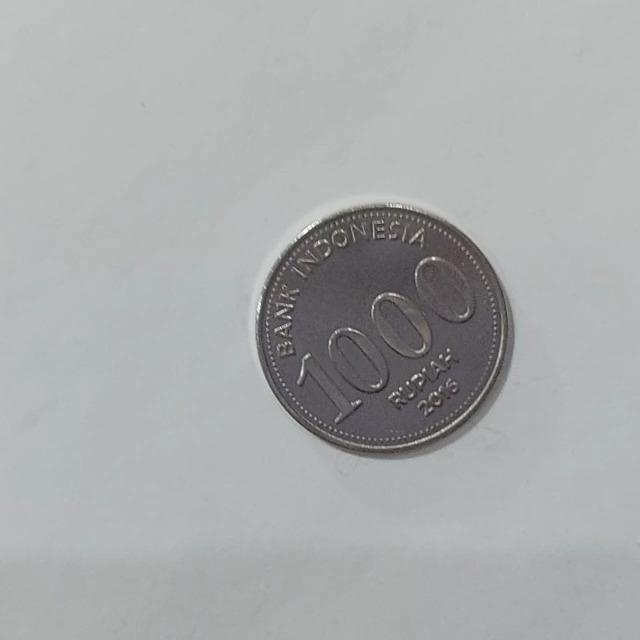Rp100: (253, 198, 513, 457)
